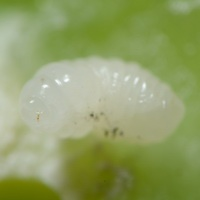insect: (20, 57, 183, 142)
